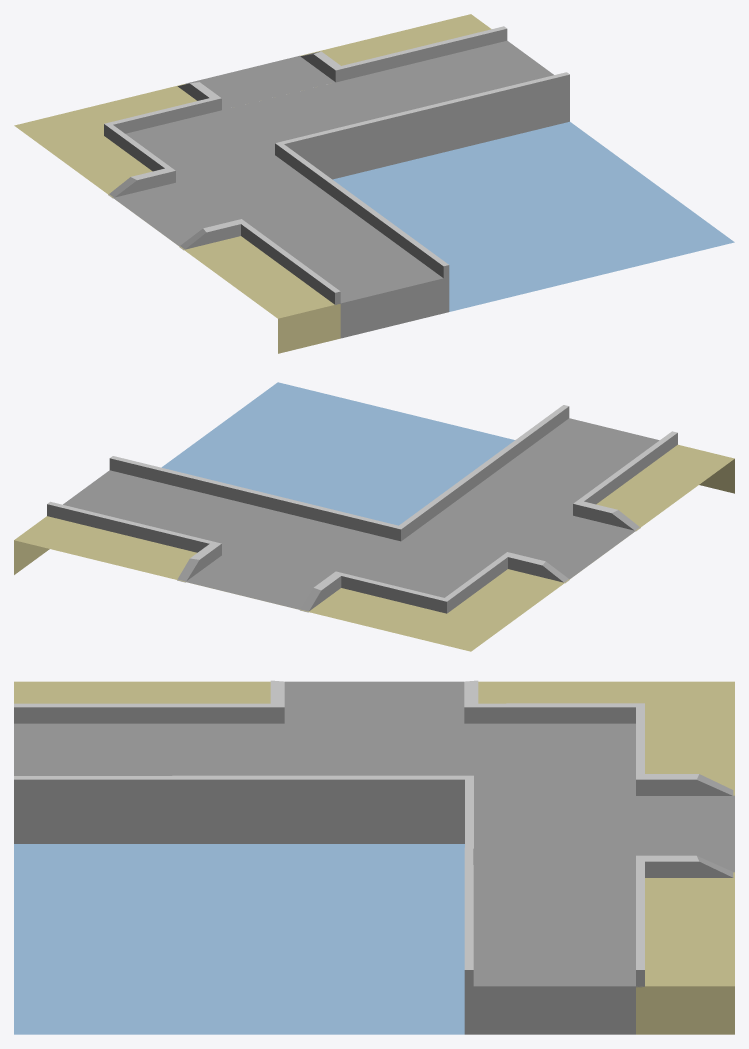
Rendered from port_tile_2x2_002.glb.
The picture shows the model from 3 angles, top to bottom: view 1: azimuth 30°, elevation 25°; view 2: azimuth 150°, elevation 25°; view 3: azimuth 270°, elevation 25°; orthographic projection. The views are drawn at different scales.
Parts seen in each view (by area): view 1: port_tile_2x2_002; view 2: port_tile_2x2_002; view 3: port_tile_2x2_002.
Part boxes in pixels (left/top/right/bottom): port_tile_2x2_002: left=14, top=14, right=734, bottom=353; port_tile_2x2_002: left=14, top=382, right=734, bottom=651; port_tile_2x2_002: left=14, top=680, right=734, bottom=1034.
Bounding box in the file's own units: 16 × 1.58 × 16.
Materials: 1 (1 with a texture image).
